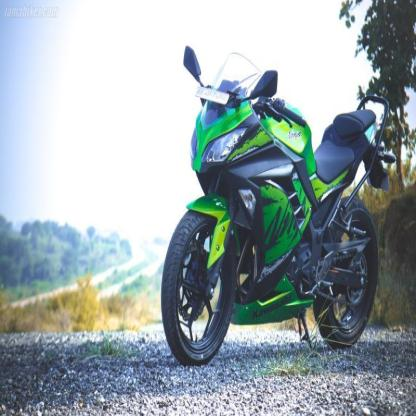bike: (163, 51, 390, 352)
